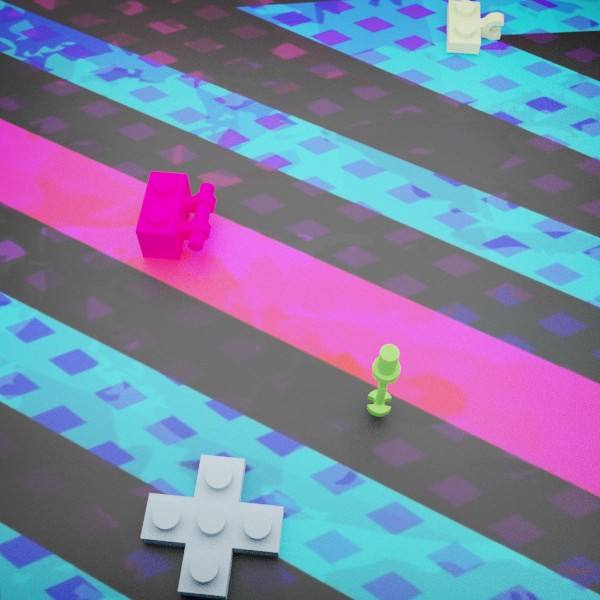lego: (140, 454, 283, 600), (135, 171, 216, 260), (446, 0, 504, 54), (366, 344, 400, 416)
